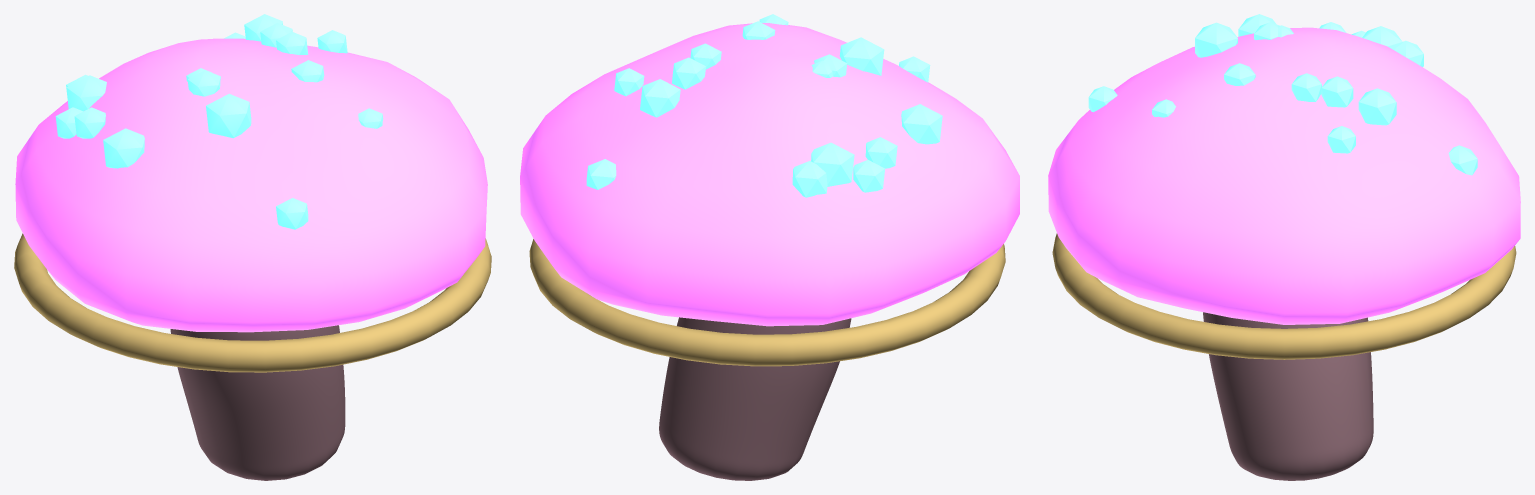
File: one-collectible-glowcap-mushroom-for-a.glb
3 renders of one model, left to right at view 1: azimuth 30°, elevation 25°; view 2: azimuth 150°, elevation 25°; view 3: azimuth 270°, elevation 25°, orthographic. The views are drawn at different scales.
Parts seen in each view (by area): view 1: cap, rim_band, stem, speckles; view 2: cap, stem, rim_band, speckles; view 3: cap, stem, rim_band, speckles.
Part boxes in pixels (x1=…): cap: x1=15, y1=38, x2=487, y2=332; rim_band: x1=14, y1=233, x2=491, y2=372; stem: x1=170, y1=325, x2=345, y2=480; speckles: x1=55, y1=14, x2=383, y2=229; cap: x1=520, y1=23, x2=1019, y2=326; stem: x1=659, y1=317, x2=851, y2=480; rim_band: x1=529, y1=239, x2=1005, y2=366; speckles: x1=586, y1=14, x2=942, y2=197; cap: x1=1048, y1=27, x2=1520, y2=324; stem: x1=1203, y1=312, x2=1373, y2=480; rim_band: x1=1052, y1=233, x2=1516, y2=359; speckles: x1=1088, y1=14, x2=1477, y2=175.
Size of the model in its own units: 2 by 1.91 by 2.
